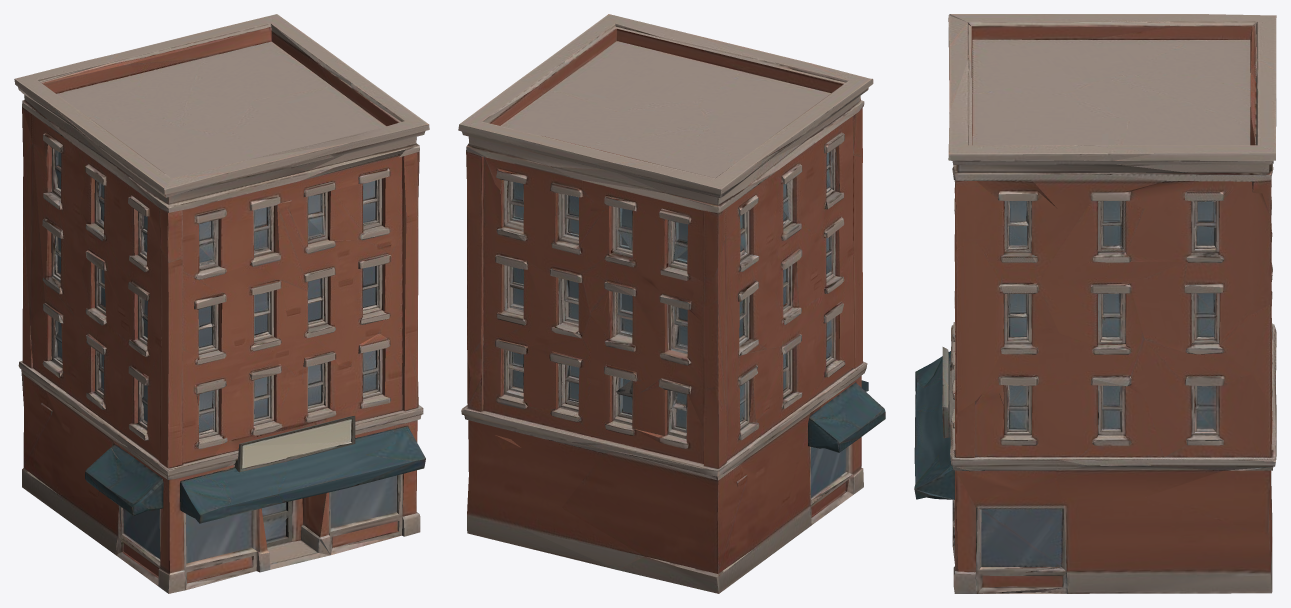
File: haus-laden.glb
3 renders of one model, left to right at view 1: azimuth 30°, elevation 25°; view 2: azimuth 150°, elevation 25°; view 3: azimuth 270°, elevation 25°, orthographic. The views are drawn at different scales.
Parts seen in each view (by area): view 1: mesh_node; view 2: mesh_node; view 3: mesh_node.
Part boxes in pixels (left/top/right/bottom): mesh_node: left=14, top=14, right=429, bottom=593; mesh_node: left=458, top=14, right=885, bottom=593; mesh_node: left=914, top=14, right=1276, bottom=593.
Bounding box in the file's own units: 1.4 × 1.9 × 1.41.
1 material, 1 textured.
